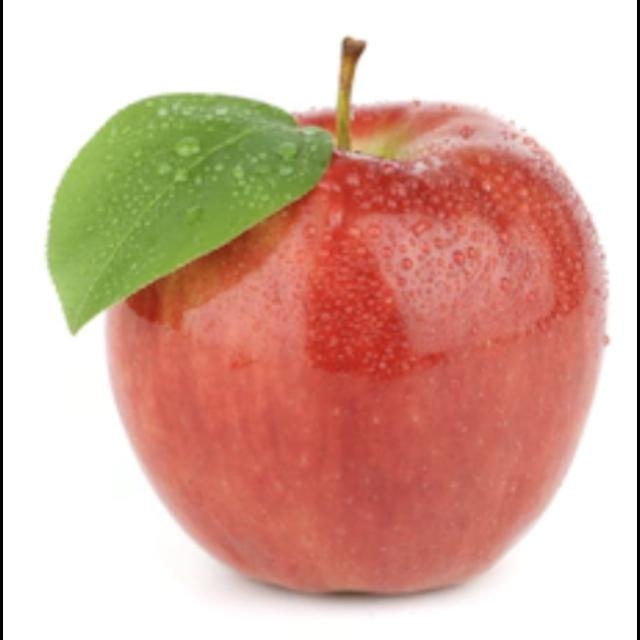Apel Segar: (102, 87, 606, 607)
